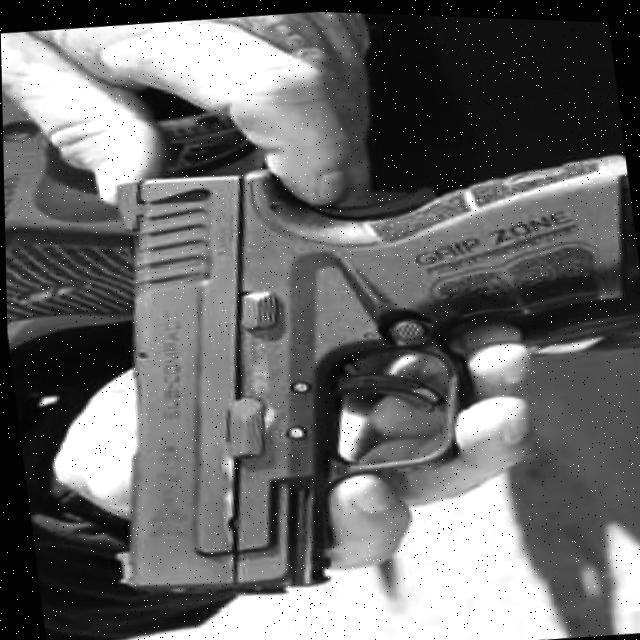pistol: (65, 125, 640, 616)
